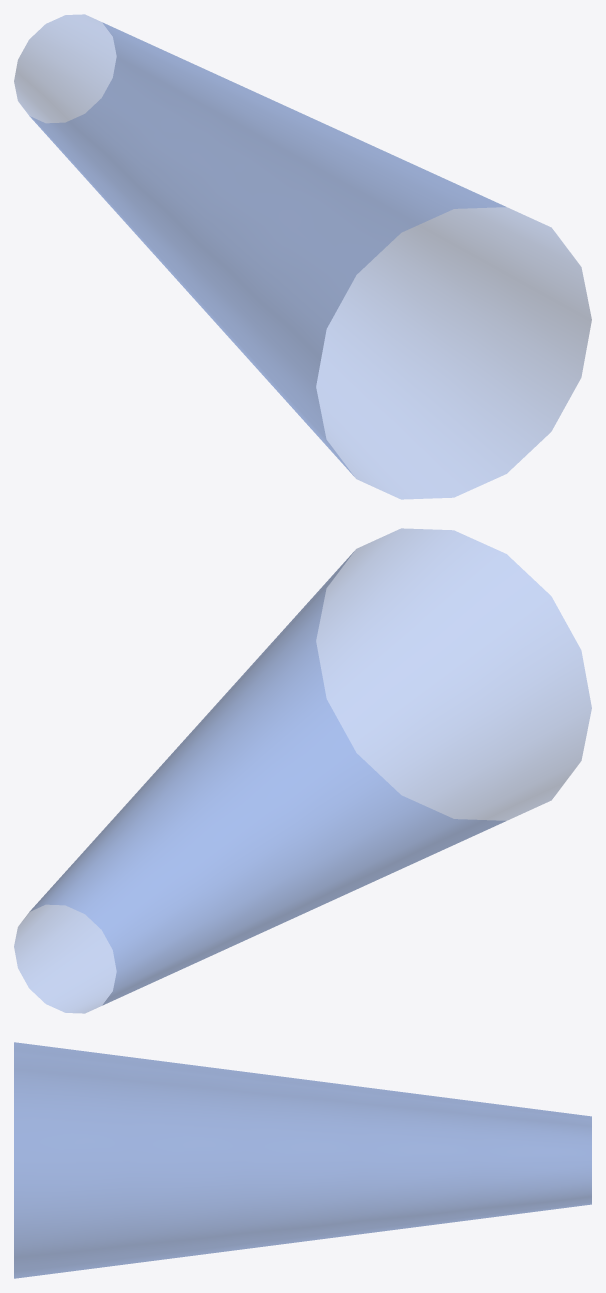
File: ship_turbo.glb
3 views of the same model, one above another, from view 1: azimuth 30°, elevation 25°; view 2: azimuth 150°, elevation 25°; view 3: azimuth 270°, elevation 25° (orthographic). The views are drawn at different scales.
Parts seen in each view (by area): view 1: gas; view 2: gas; view 3: gas.
Boxes of the visible parts, bbox=[...] form: gas: bbox=[14, 14, 591, 499]; gas: bbox=[14, 528, 591, 1013]; gas: bbox=[14, 1042, 591, 1278].
Bounding box in the file's own units: 1.06 × 1.06 × 2.58.
